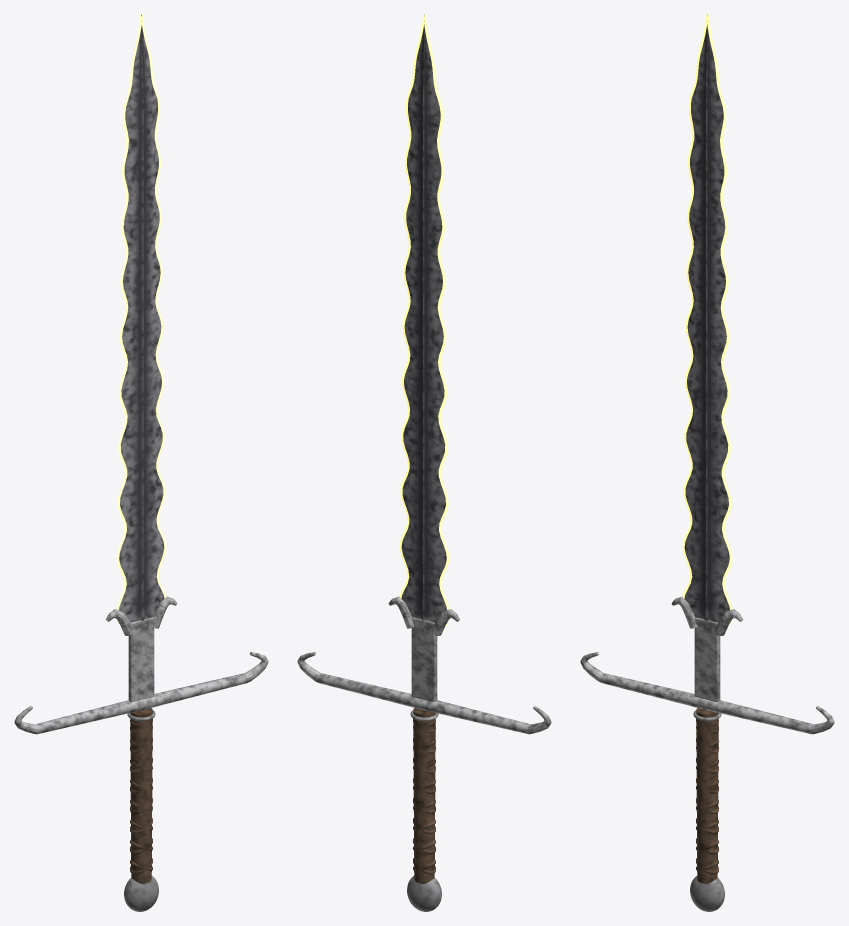
3 views of the same model, side by side, from view 1: azimuth 30°, elevation 25°; view 2: azimuth 150°, elevation 25°; view 3: azimuth 330°, elevation 25° (orthographic).
Visible parts, largest first — view 1: metal_dark, metal_iron, leather_dark, glow_edge; view 2: metal_dark, metal_iron, leather_dark, glow_edge; view 3: metal_dark, metal_iron, leather_dark, glow_edge.
Boxes of the visible parts, x1,y1,x2,y2 form: metal_dark: (119,14,164,622); metal_iron: (14,596,268,911); leather_dark: (130,708,152,883); glow_edge: (116,14,166,626); metal_dark: (401,14,446,622); metal_iron: (297,596,551,911); leather_dark: (413,708,435,883); glow_edge: (399,14,449,626); metal_dark: (684,14,729,622); metal_iron: (580,596,834,911); leather_dark: (696,708,718,883); glow_edge: (682,14,732,626).
Bounding box in the file's own units: 0.6248 × 2.11 × 0.06.
Materials: 4 (3 with a texture image).
